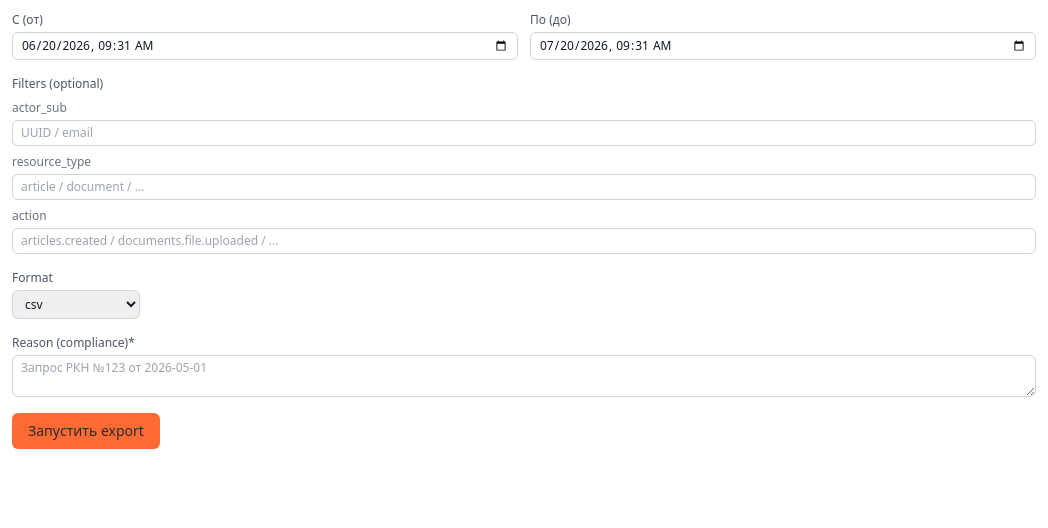
Scenario: AuditExportForm › blocks submit without reason
Step 1. Click the button "Запустить export" → (86, 431), box [12, 413, 160, 449]
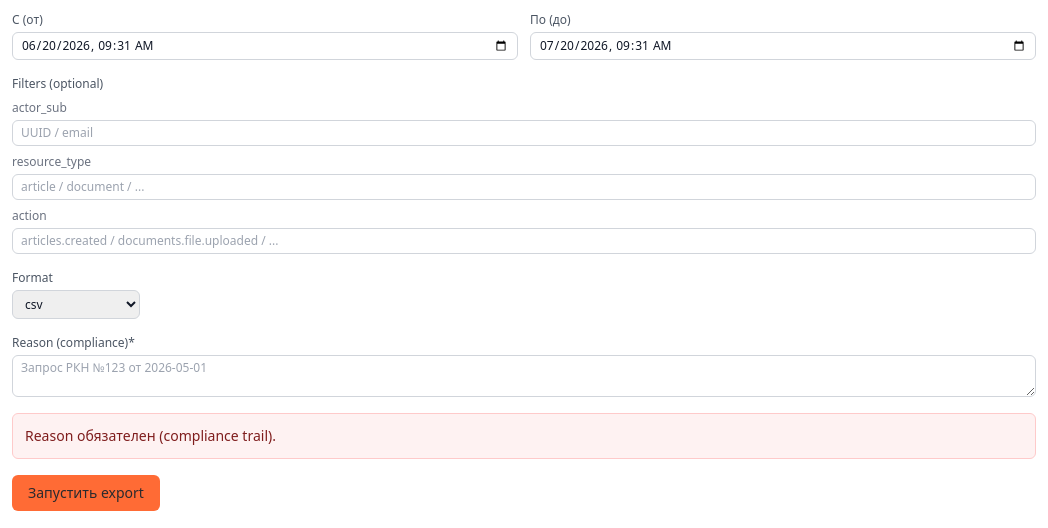
Expected: the message shows "Reason обязателен", [25, 426, 276, 445]
